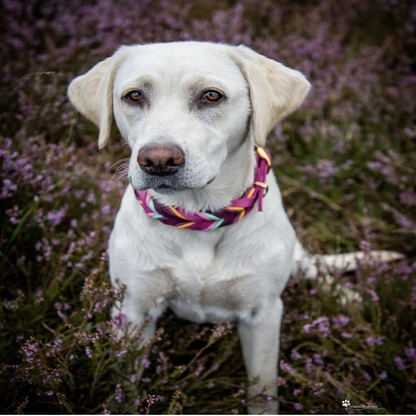labrado: (64, 35, 404, 416)
